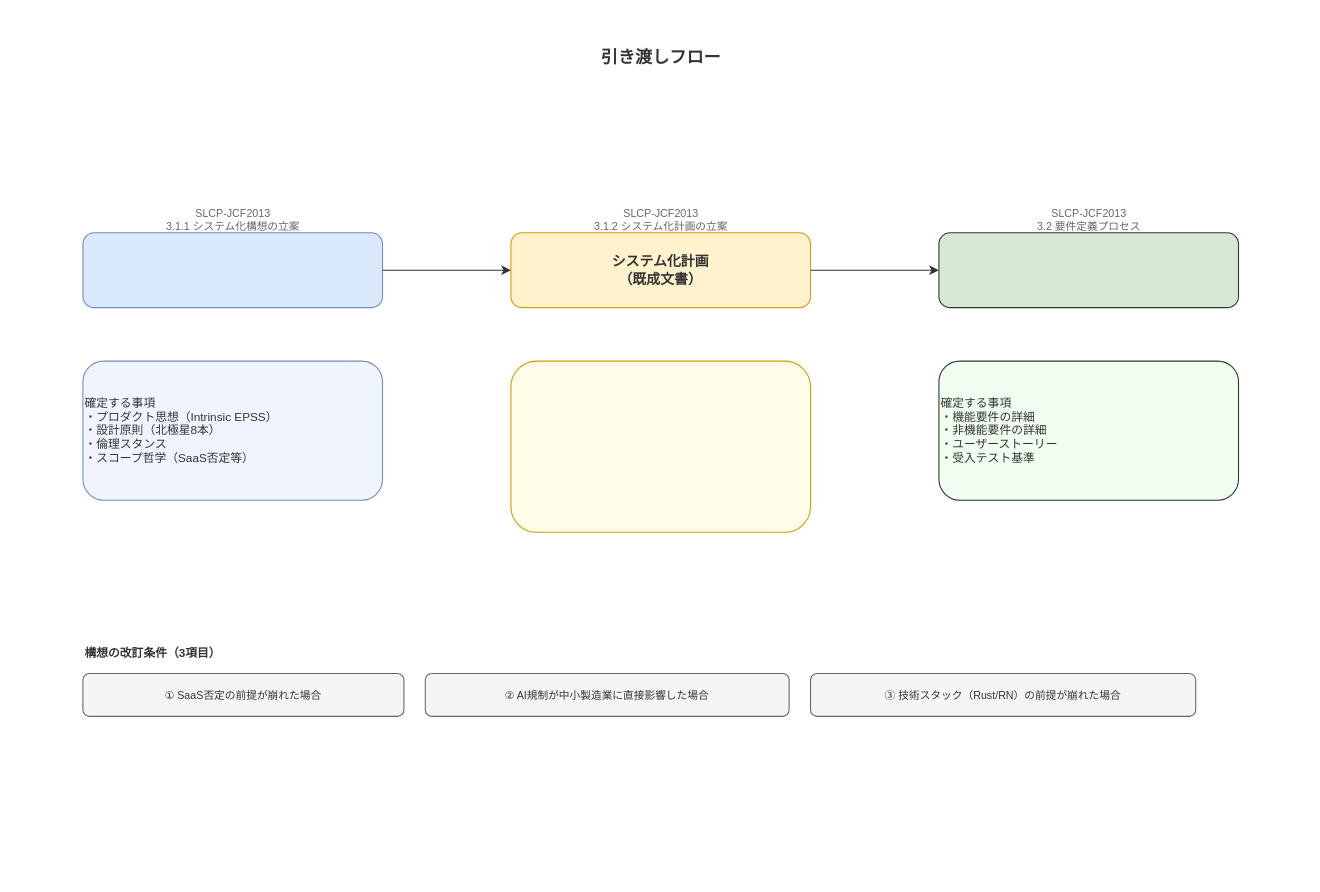
Some shapes in this 1320 by 892 pixel diagram are drawn without their labels. Here are the shapes that lost their labels. From the top down, the centre of each, then its label:
the point at 232,270: システム化構想 （本文書群）
the point at 1088,270: 要件定義 （次フェーズ）
the point at 660,446: 確定する事項 ・対象範囲・スコープ ・技術選定根拠 ・KPI閾値・定量目標 ・フェーズスケジュール ・リスク台帳 ・規制適用判断表
